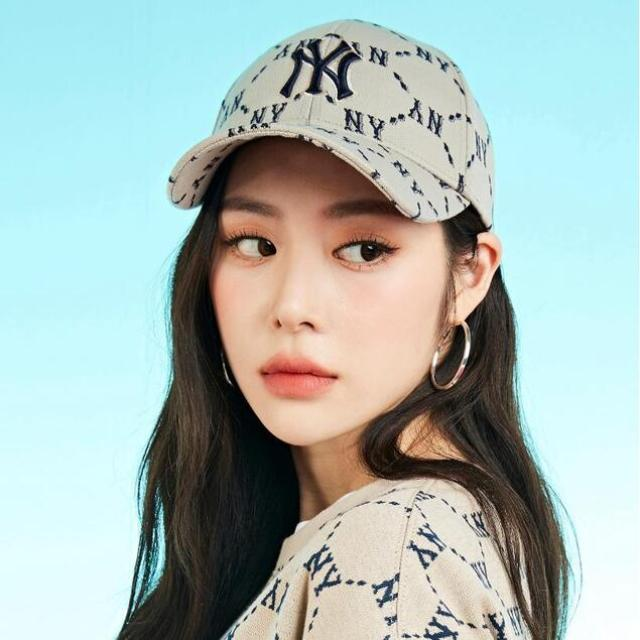Cap: (161, 13, 500, 238)
